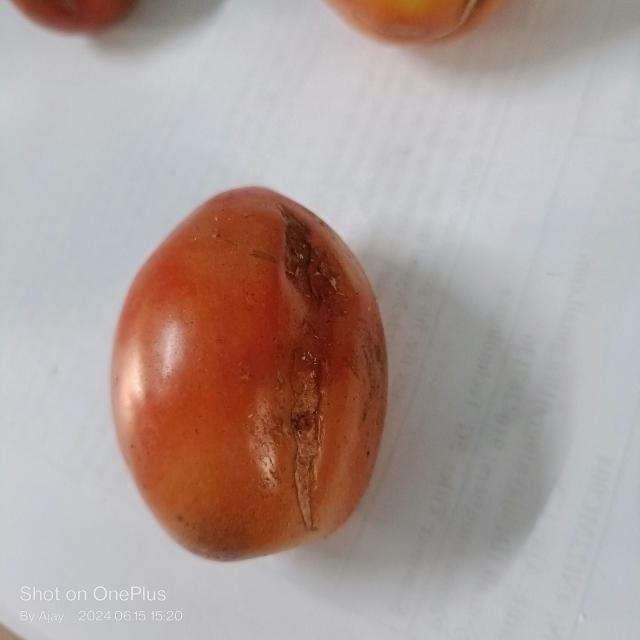tomato_cracking: (289, 199, 359, 537)
